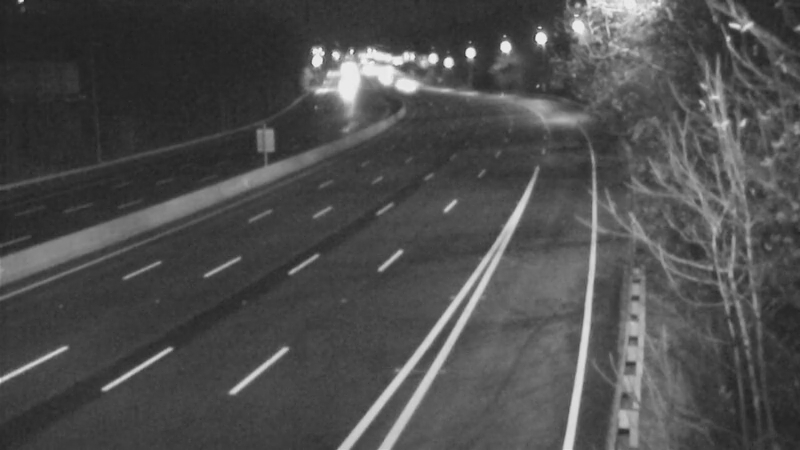vehicle: (371, 58, 421, 108), (385, 62, 435, 112)
